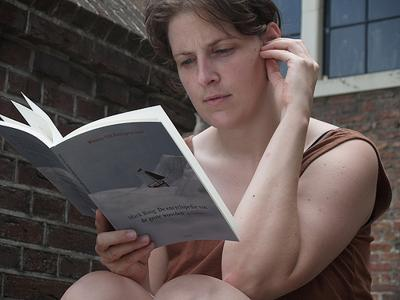person: (56, 3, 393, 299)
